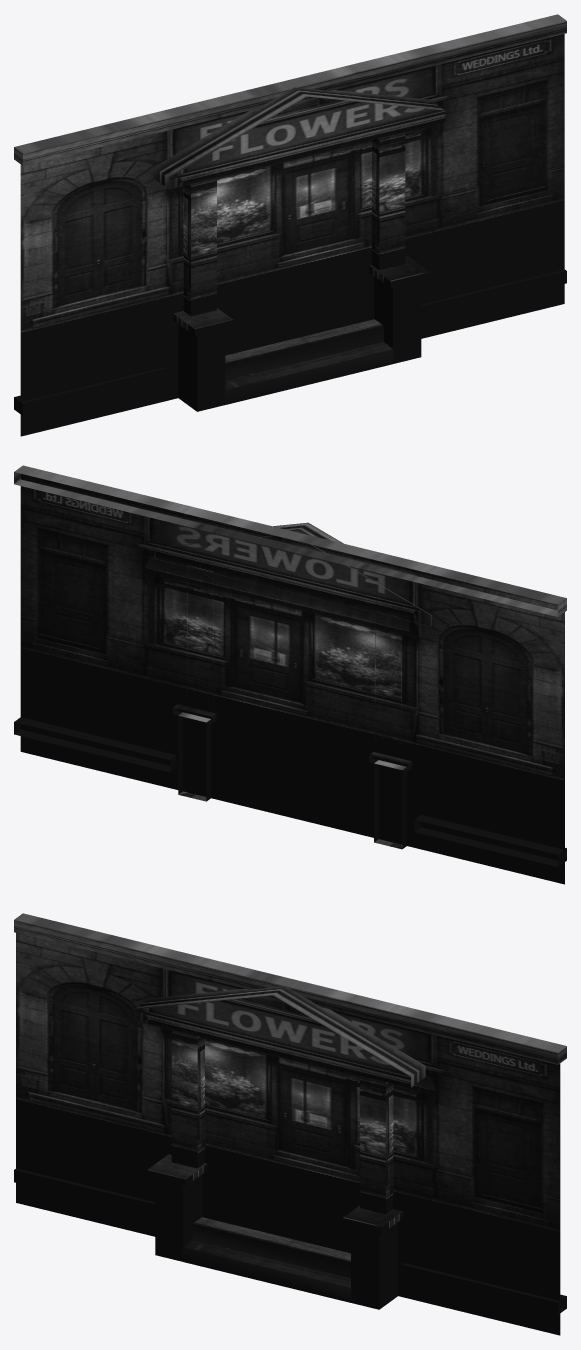
Rendered from shop.obj.
3 renders of one model, top to bottom at view 1: azimuth 30°, elevation 25°; view 2: azimuth 150°, elevation 25°; view 3: azimuth 330°, elevation 25°, orthographic.
Visible parts, largest first — view 1: group; view 2: group; view 3: group.
Boxes of the visible parts, box(x1,y1,x2,y2) form: group: box(14, 14, 566, 436); group: box(14, 465, 566, 884); group: box(14, 913, 566, 1335).
Bounding box in the file's own units: 10 × 5 × 0.906.
